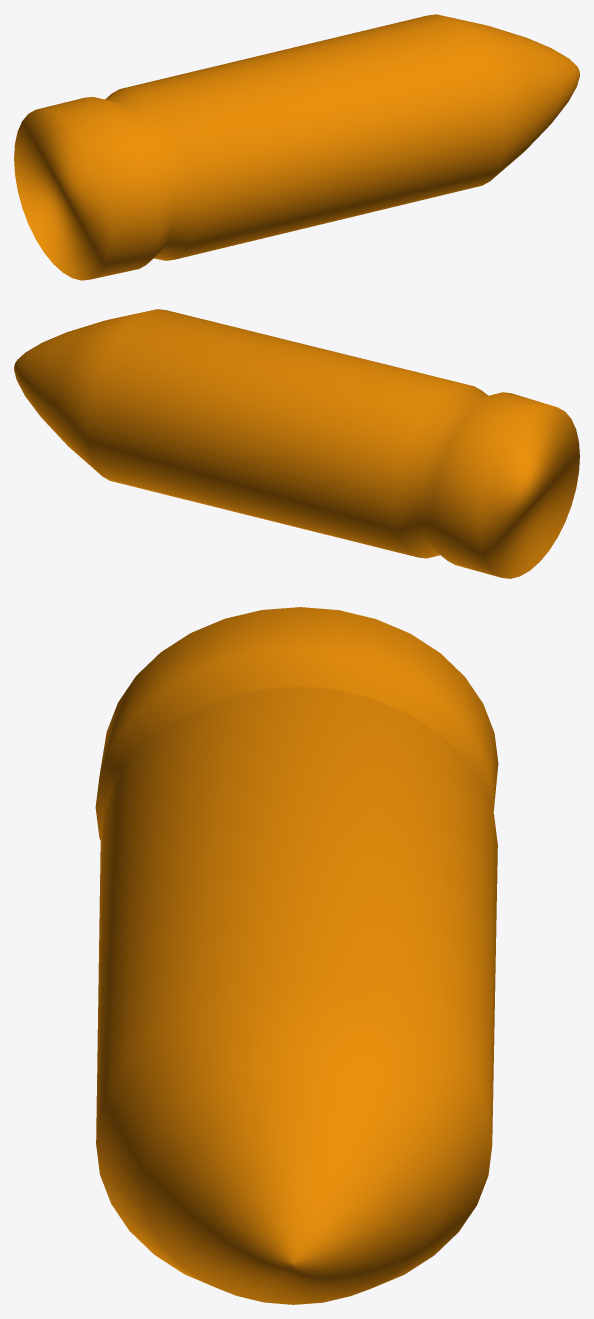
Rendered from missile.gltf.
The picture shows the model from 3 angles, top to bottom: view 1: azimuth 30°, elevation 25°; view 2: azimuth 150°, elevation 25°; view 3: azimuth 270°, elevation 25°; orthographic projection. The views are drawn at different scales.
Parts seen in each view (by area): view 1: Cylinder; view 2: Cylinder; view 3: Cylinder.
Part boxes in pixels (x1,y1,x2,y2): Cylinder: (14,14,579,280); Cylinder: (14,309,579,578); Cylinder: (95,607,498,1304).
Bounding box in the file's own units: 12.31 × 3.6 × 4.17.
